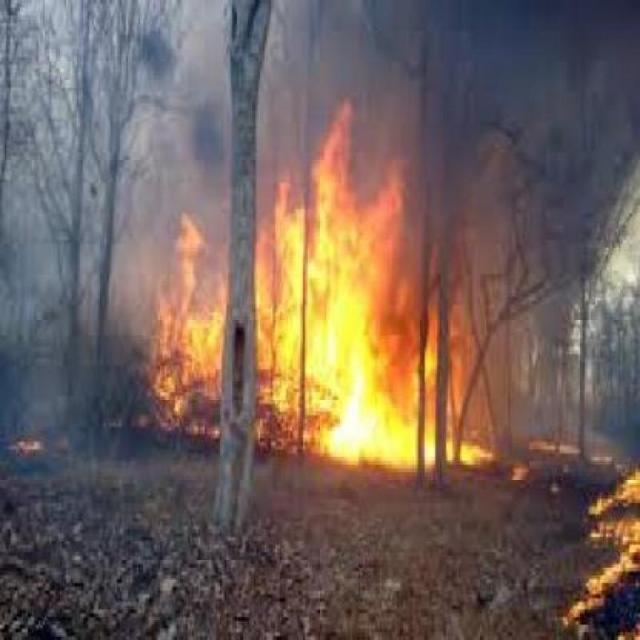Fire: (153, 183, 470, 462), (580, 472, 640, 640)
Smoke: (383, 0, 640, 228)
